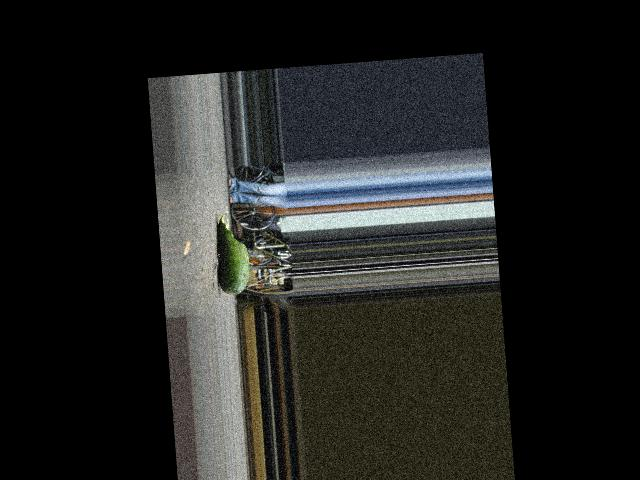cucumber: (214, 212, 251, 295)
